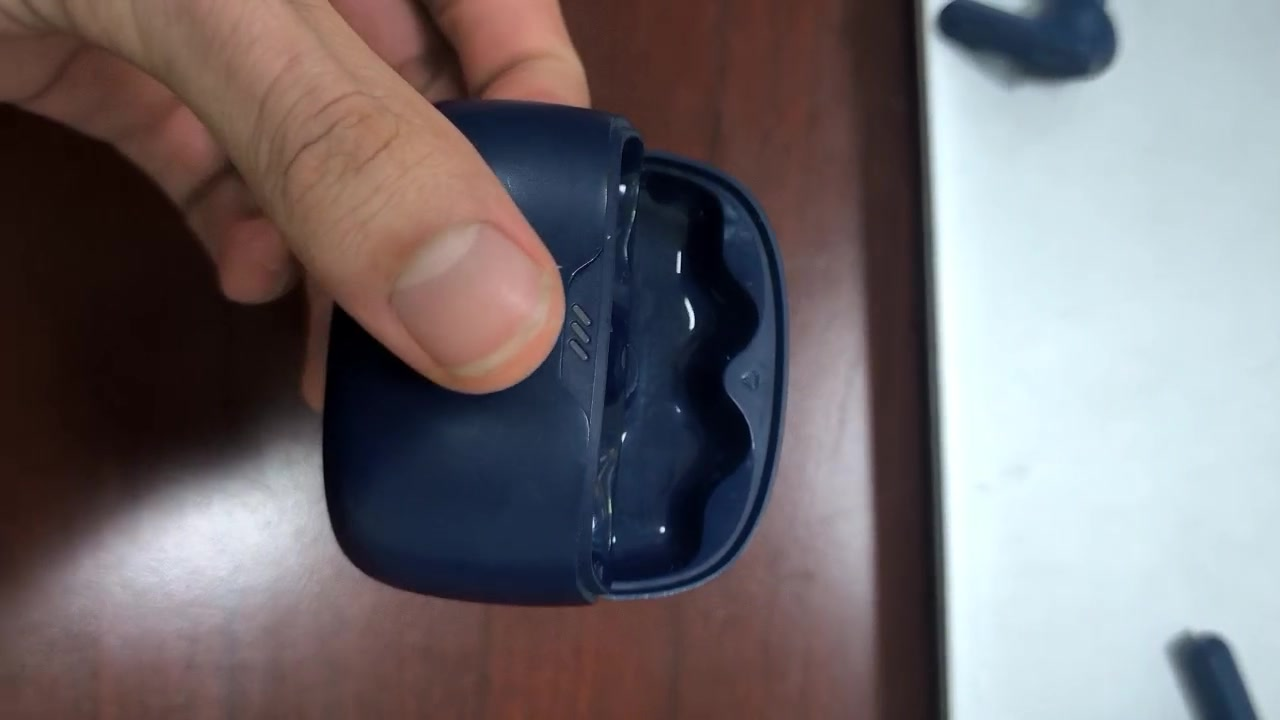Case: (322, 101, 785, 604)
Earbud: (937, 0, 1115, 77)
